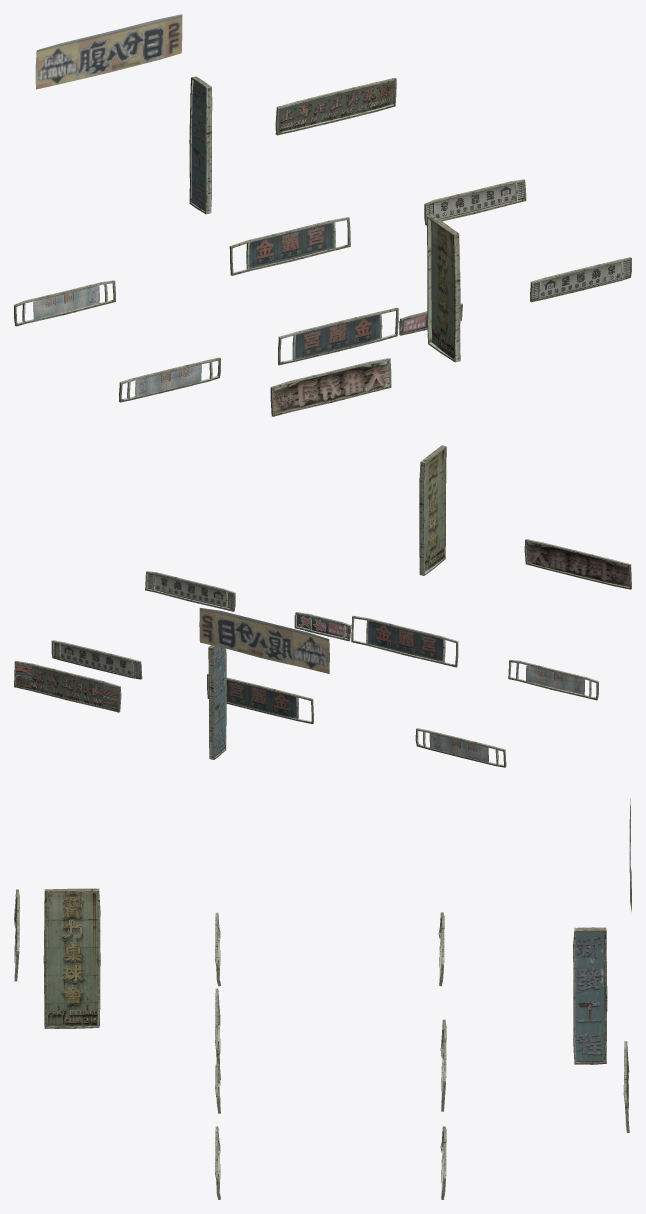
3 renders of one model, top to bottom at view 1: azimuth 30°, elevation 25°; view 2: azimuth 150°, elevation 25°; view 3: azimuth 270°, elevation 25°, orthographic. The views are drawn at different scales.
Visible parts, largest first — view 1: SM_HK_02_03; view 2: SM_HK_02_03; view 3: SM_HK_02_03.
Boxes of the visible parts, x1,y1,x2,y2 form: SM_HK_02_03: [14, 14, 631, 416]; SM_HK_02_03: [14, 445, 631, 767]; SM_HK_02_03: [14, 798, 631, 1199].
Bounding box in the file's own units: 3075 × 1084 × 3017.
